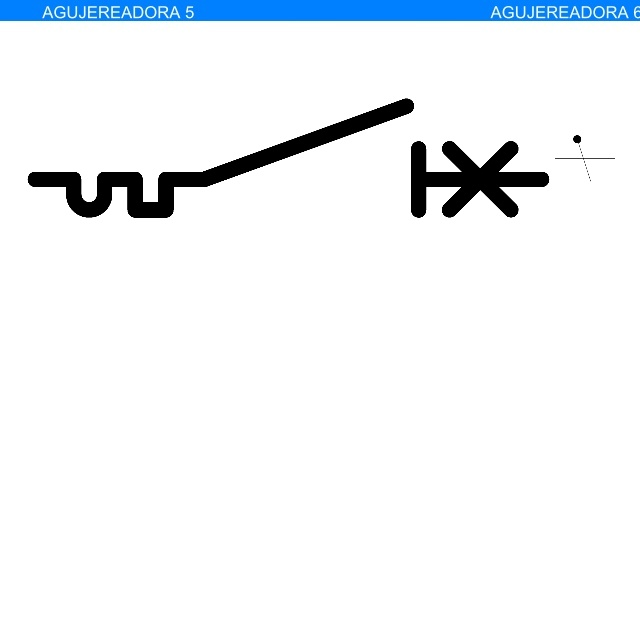interruptor_termomagnetico: (22, 93, 555, 223)
